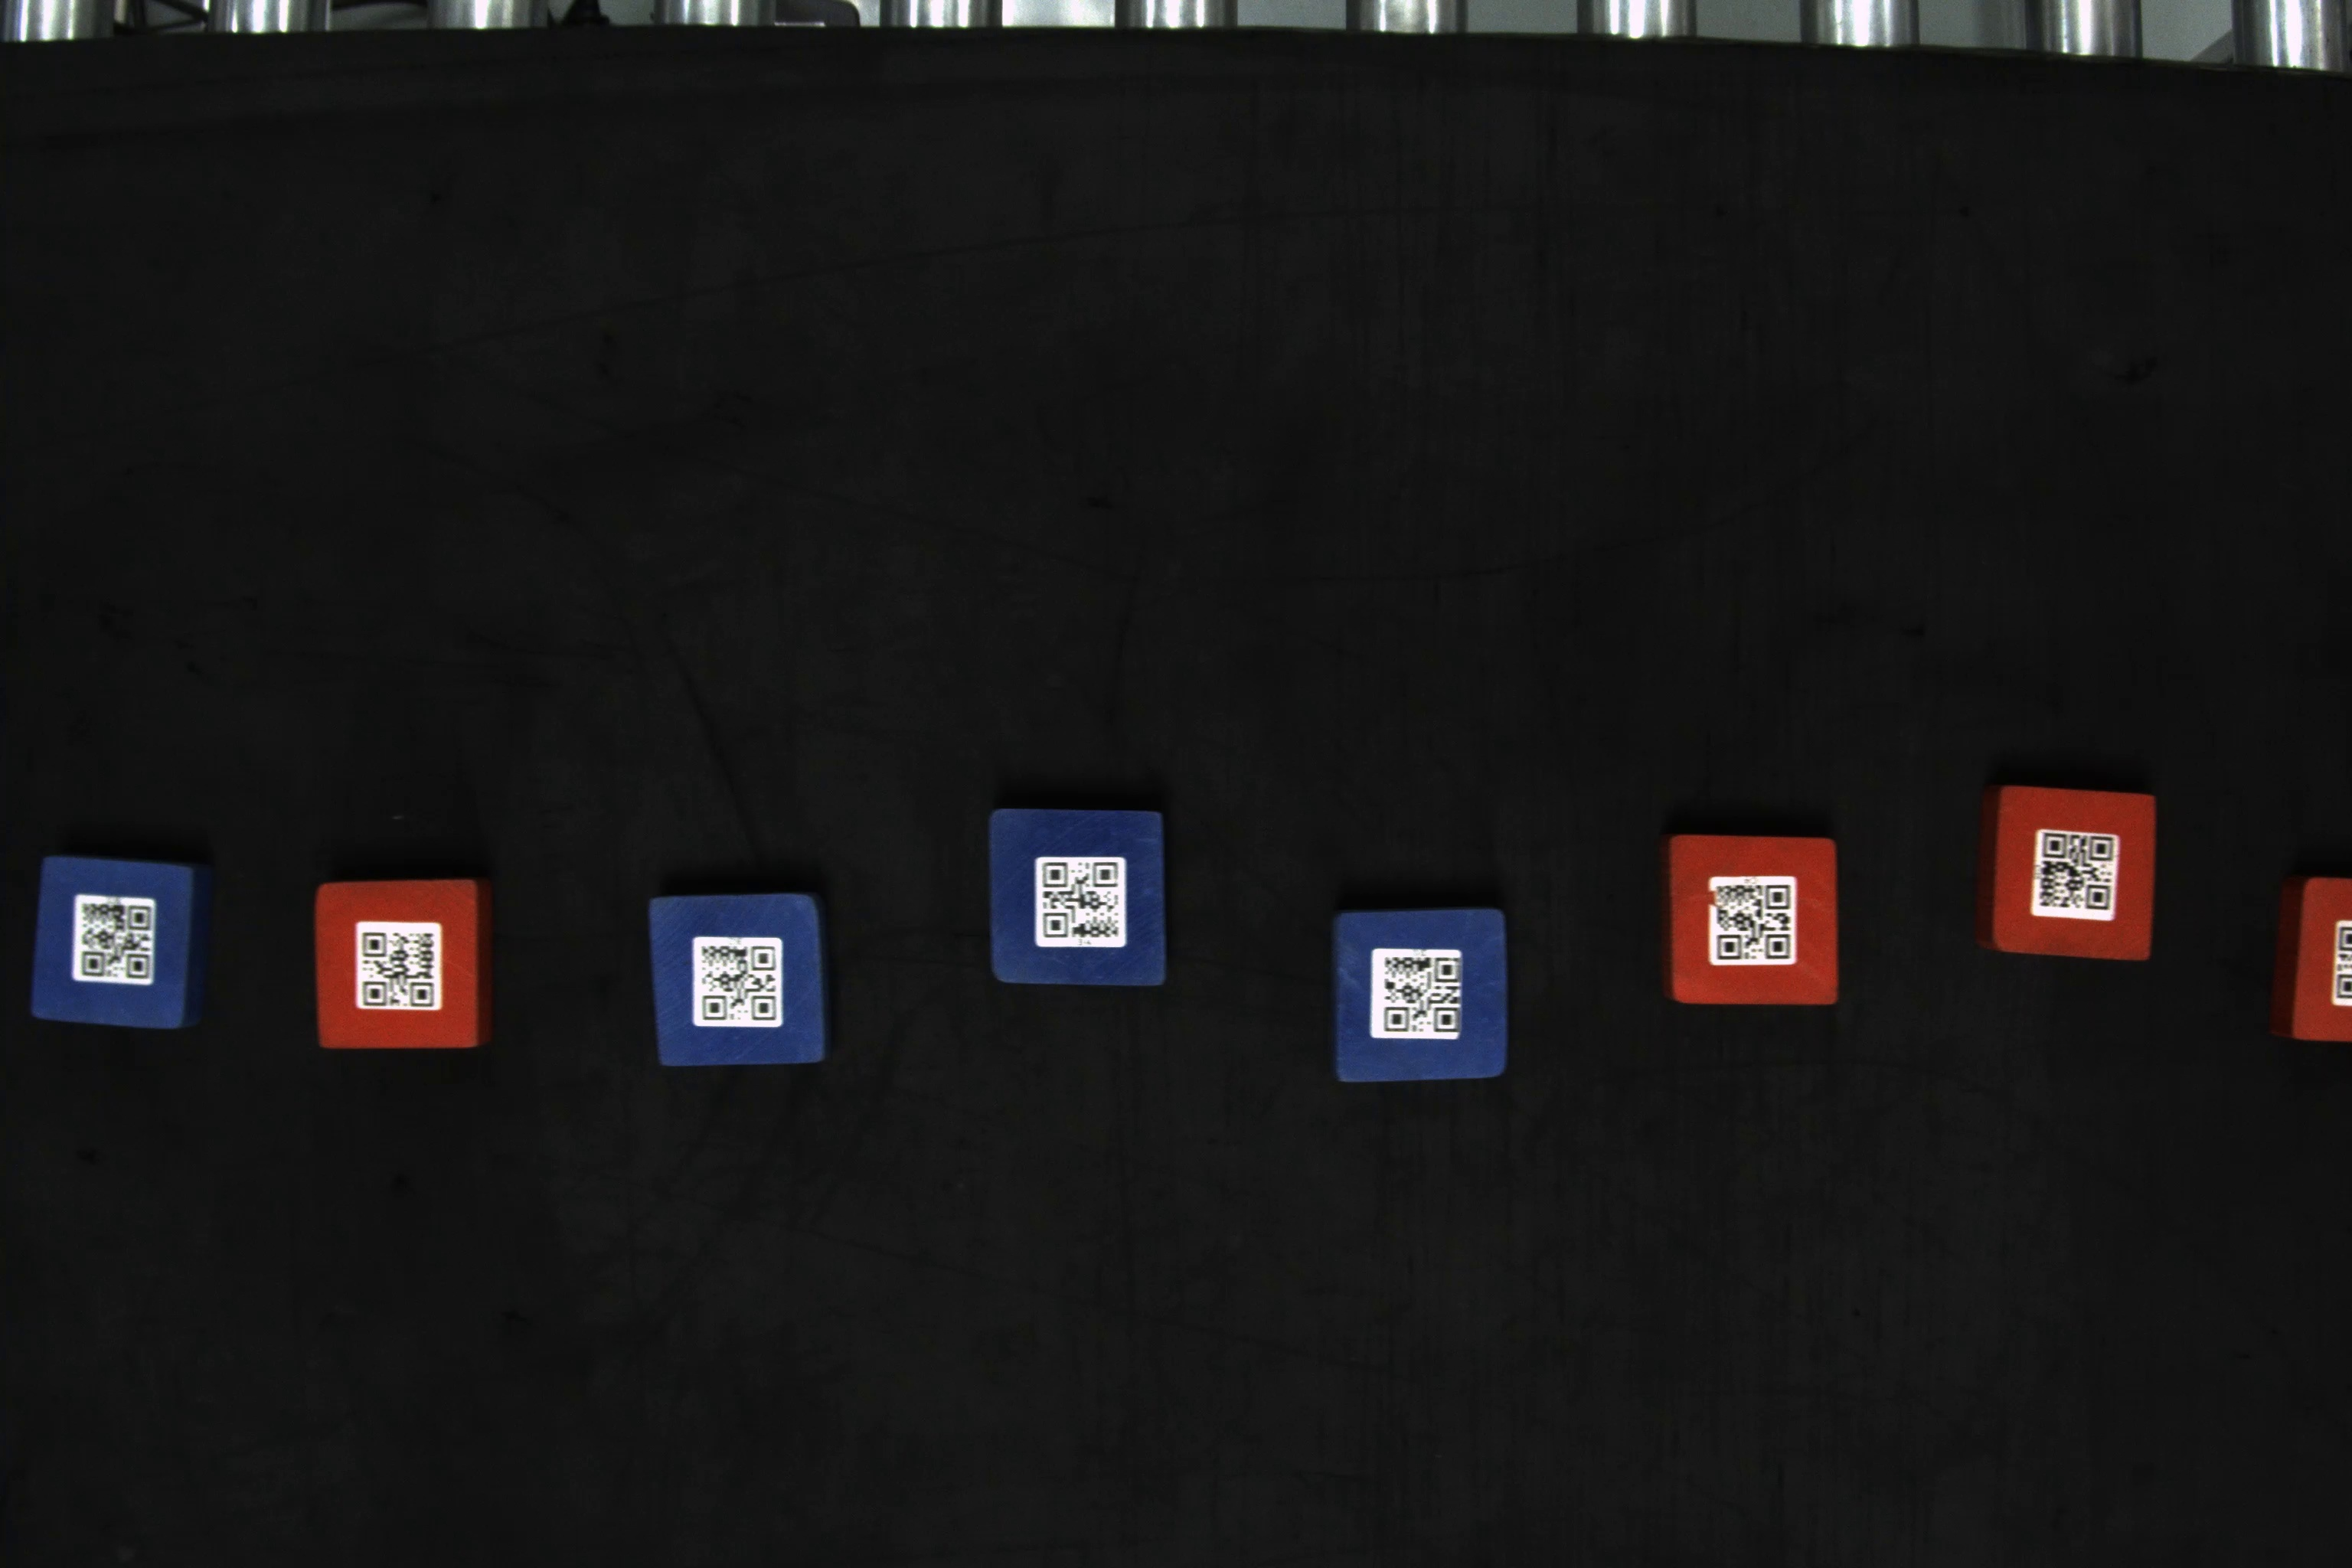wood: (19, 845, 219, 1039), (989, 803, 1176, 992), (642, 891, 838, 1071), (1976, 779, 2163, 966), (308, 873, 499, 1055), (1659, 829, 1850, 1011), (1328, 903, 1514, 1088), (2277, 868, 2348, 1045)
